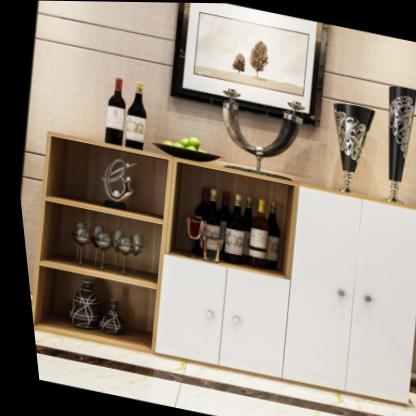Ceramic floor: (27, 330, 416, 416)
Cupboard: (25, 133, 416, 404)
